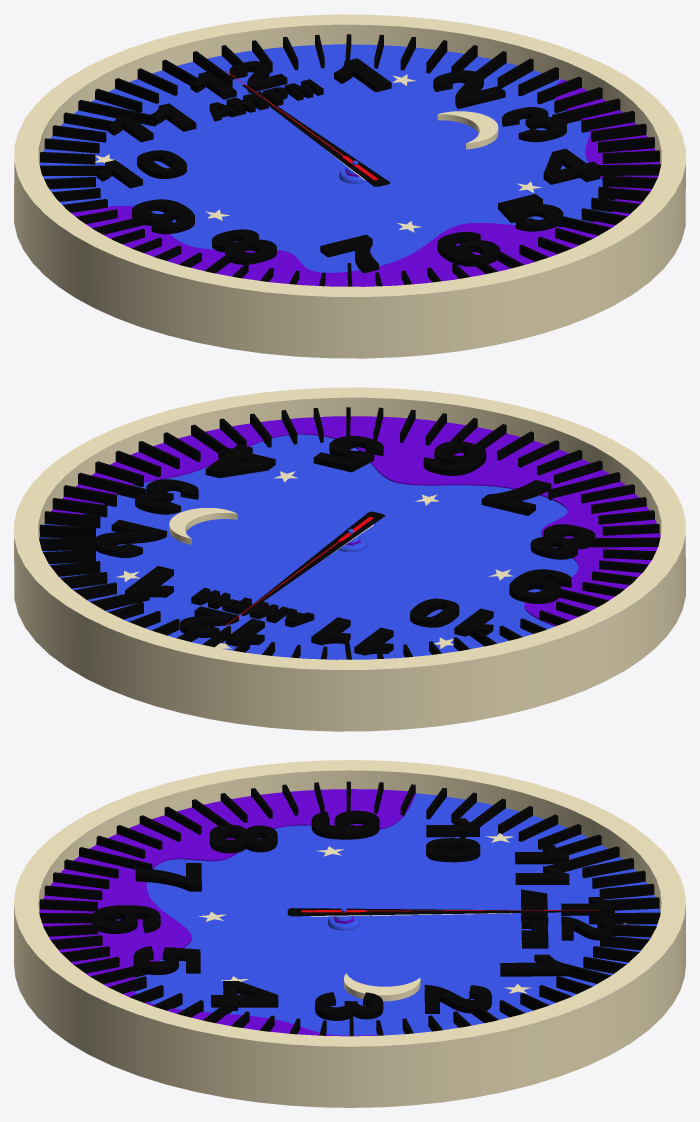
The model's file is Clock.glb.
The picture shows the model from 3 angles, top to bottom: view 1: azimuth 30°, elevation 25°; view 2: azimuth 150°, elevation 25°; view 3: azimuth 270°, elevation 25°; orthographic projection.
Visible parts, largest first — view 1: WallClock_3d_model, Words_Numbers.001, Minutes; view 2: WallClock_3d_model, Words_Numbers.001, Minutes; view 3: WallClock_3d_model, Words_Numbers.001, Minutes.
Boxes of the visible parts, x1,y1,x2,y2 form: WallClock_3d_model: [14, 14, 685, 358]; Words_Numbers.001: [40, 34, 661, 286]; Minutes: [242, 84, 390, 186]; WallClock_3d_model: [14, 387, 685, 731]; Words_Numbers.001: [39, 407, 660, 659]; Minutes: [241, 511, 385, 615]; WallClock_3d_model: [14, 760, 685, 1107]; Words_Numbers.001: [39, 781, 660, 1036]; Minutes: [287, 908, 564, 916].
Bounding box in the file's own units: 49.66 × 5.22 × 49.64.
